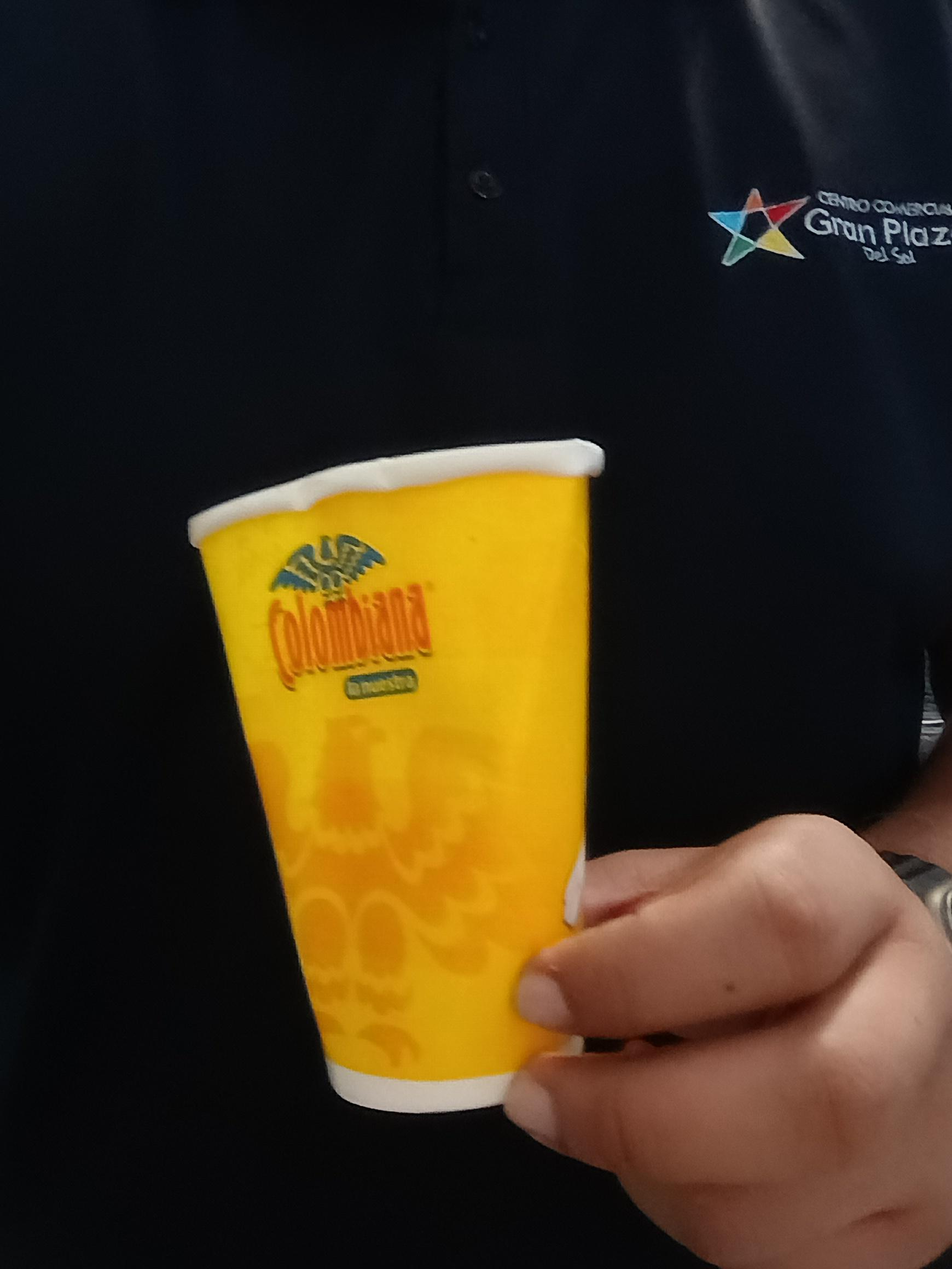Carton: (181, 437, 609, 1113)
